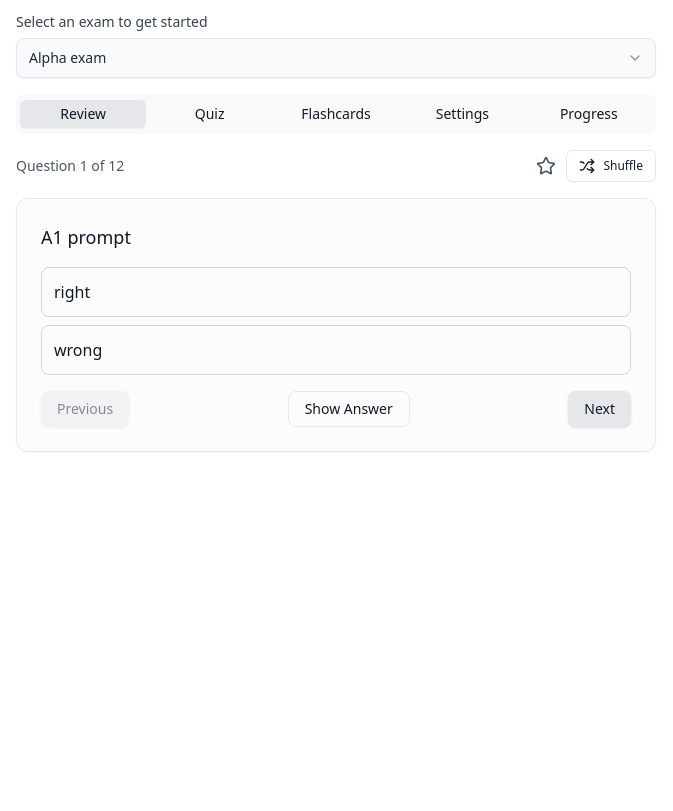
Test: B4 — quiz survives tab switches › keeps the in-progress quiz (position and answers) after visiting another tab
Expected: the text "A1 prompt" is shown, [41, 225, 131, 249]
Step 1. Press the mouse on the tab "Quiz" → (210, 114), box [146, 100, 273, 128]
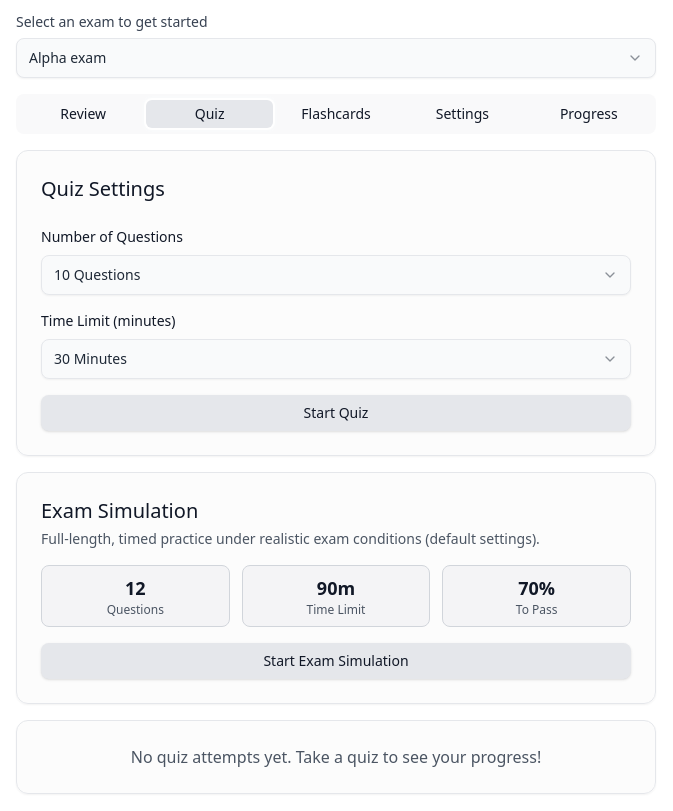
Step 2. Click the button "Start Quiz" → (336, 413), box [41, 395, 631, 431]
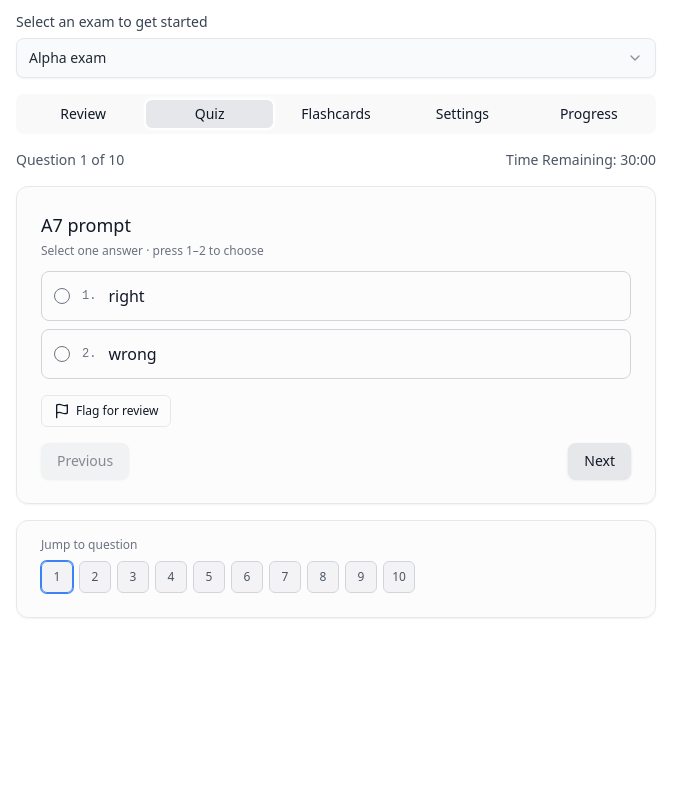
Step 3. Click the button "Next" → (600, 461), box [568, 443, 631, 479]
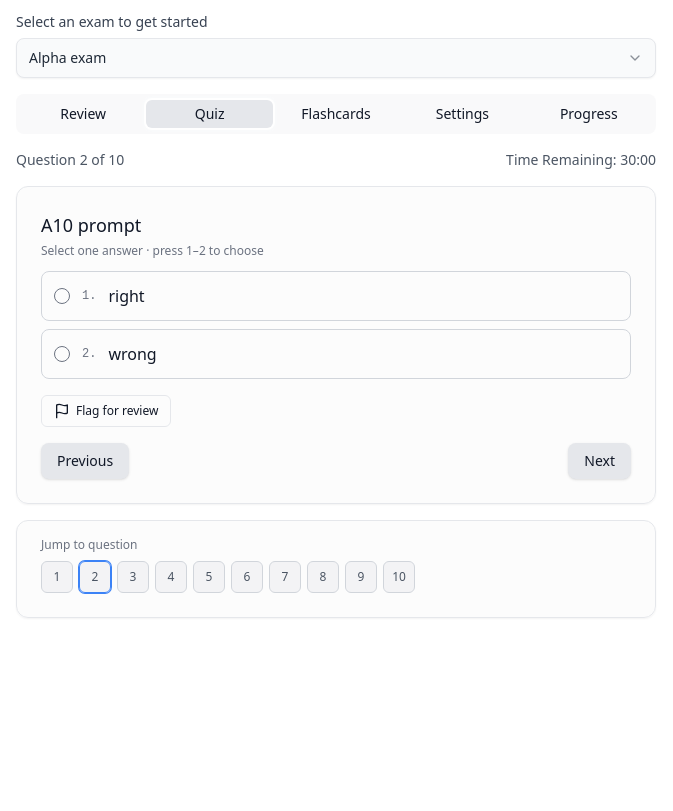
Now the text "Question 2 of 10" is shown, box [16, 150, 124, 170]
Step 4. Press the mouse on the tab "Settings" → (462, 114), box [399, 100, 526, 128]
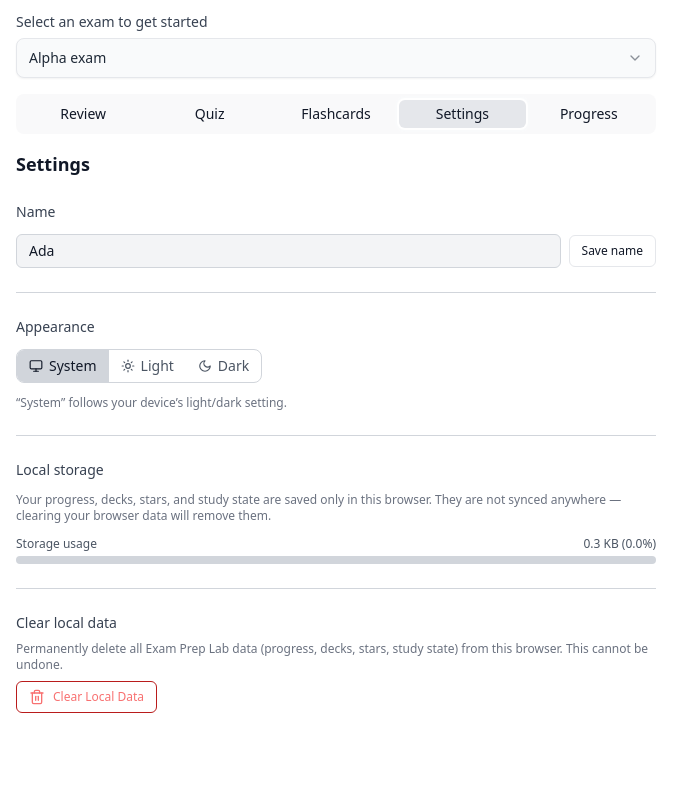
Step 5. Press the mouse on the tab "Quiz" → (210, 114), box [146, 100, 273, 128]
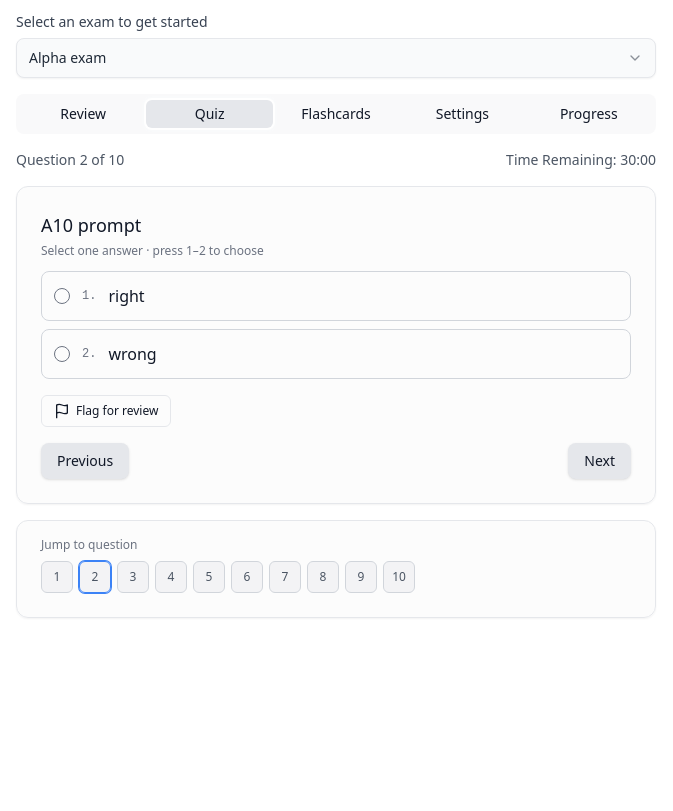
Expected: the button "Start Quiz" is not shown
Now the text "Question 2 of 10" is shown, box [16, 150, 124, 170]
